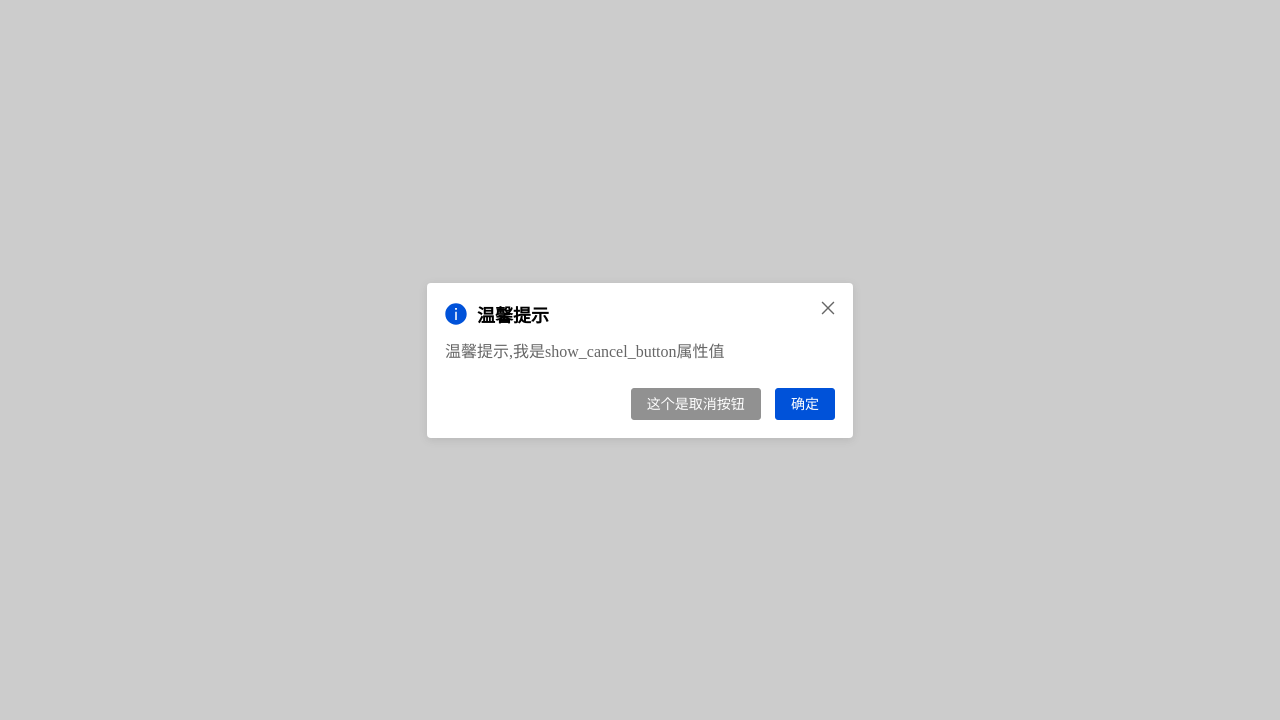
MessageBox 组件测试 › 应该能渲染正常传入的布尔类型show_cancel_button属性值
Expected: the button "这个是取消按钮" is shown, [631,388,761,420]
Note: 关闭弹窗，测试show_cancel_button属性为false
Click the button with test id "messagebox_closeBtn".
click(828, 308)  # box [821,300,835,314]
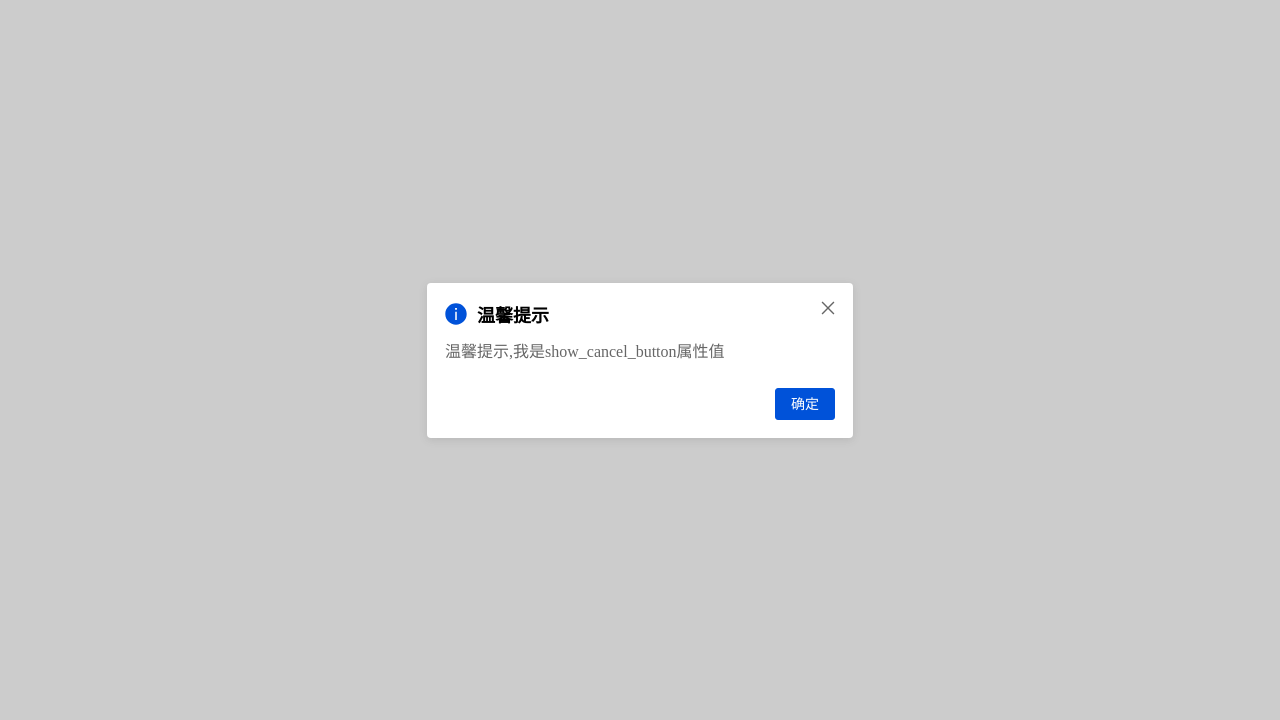
Expected: the button "这个是取消按钮" is gone
